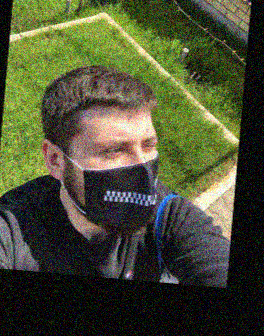with_mask: (76, 122, 159, 236)
